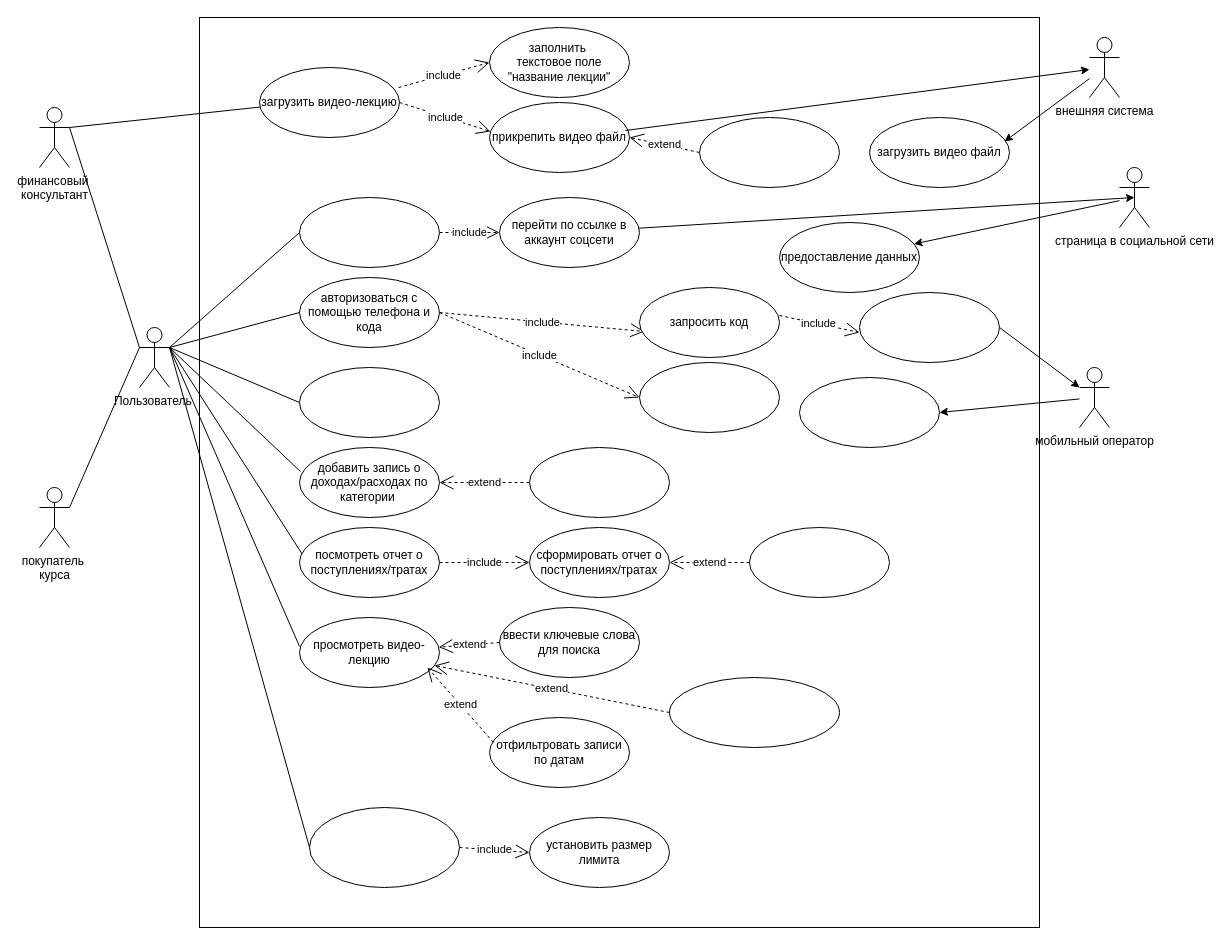
Image size: 1231x945. Some labels were removed from this diagram. The shapes that lost their labels are listed below. From the top down, each one's box as (x1, y1, x2, y2) in pixels, then its label:
(698, 116, 840, 188): добавить текстовое описание к видео лекции
(298, 196, 440, 268): авторизоваться через аккаунт в соцсетях
(858, 292, 1000, 362): ввести номер телефона
(298, 366, 440, 438): завести персональную категорию доходов/расходов
(638, 362, 780, 432): ввести полученный в сообщении код
(798, 376, 940, 448): выслать сообщение с кодом
(528, 446, 670, 518): редактировать запись о доходах/расходах по категории
(748, 526, 890, 598): отразить отчет в виде графика/диаграммы
(668, 676, 840, 748): отфильтровать записи по параметру просмотрено/не просмотрено
(308, 806, 460, 888): установить предупреждение о превышении лимита расходов на месяц
